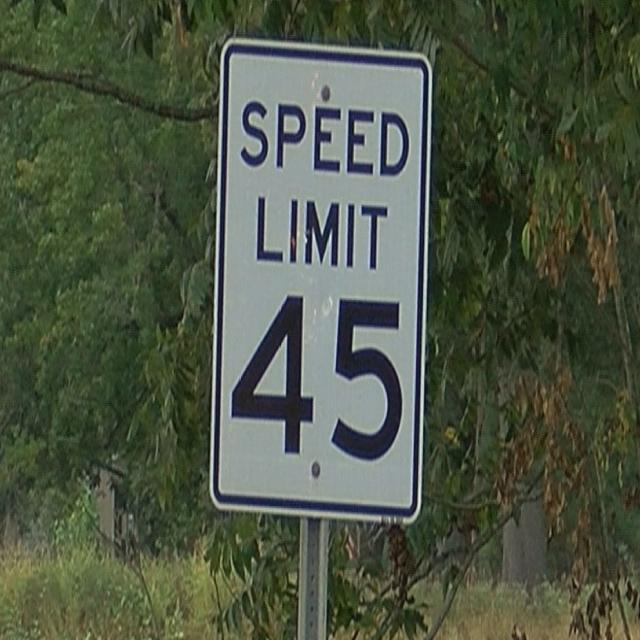speedLimit45: (206, 35, 435, 527)
